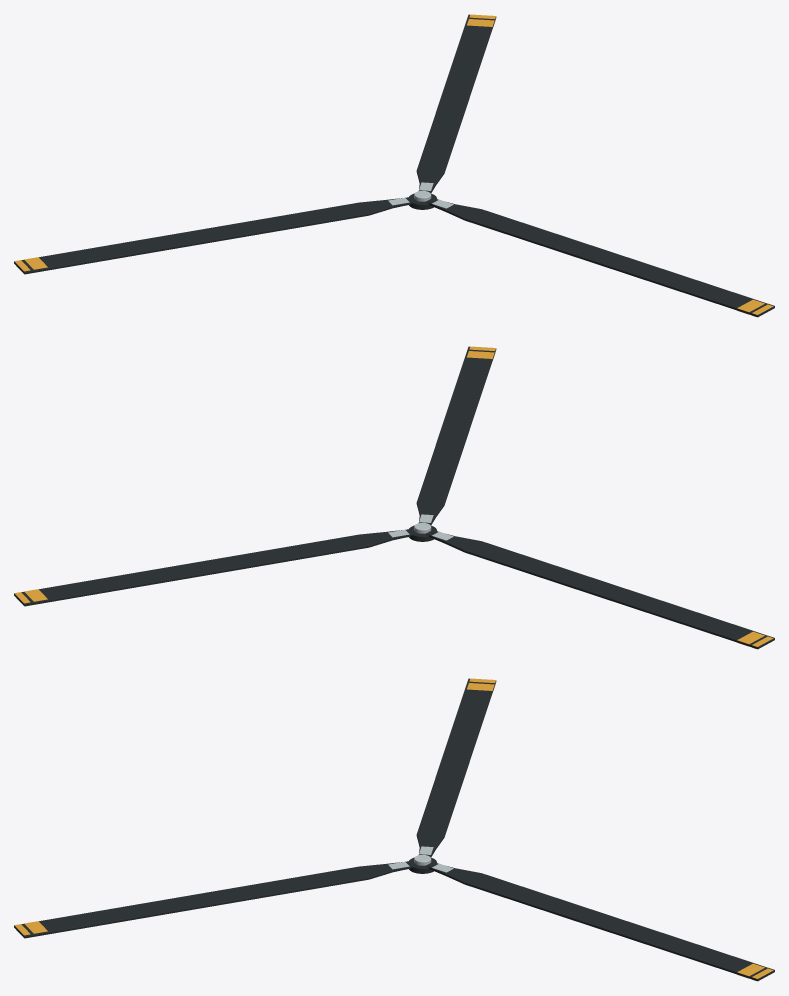
Rendered from AS350Rotor.fbx.
The picture shows the model from 3 angles, top to bottom: view 1: azimuth 30°, elevation 25°; view 2: azimuth 150°, elevation 25°; view 3: azimuth 270°, elevation 25°; orthographic projection.
Visible parts, largest first — view 1: AS350Rotor; view 2: AS350Rotor; view 3: AS350Rotor.
Boxes of the visible parts, x1,y1,x2,y2 form: AS350Rotor: [14, 14, 774, 317]; AS350Rotor: [14, 346, 774, 649]; AS350Rotor: [14, 678, 774, 981].
Size of the model in its own units: 873 by 13.35 by 934.
